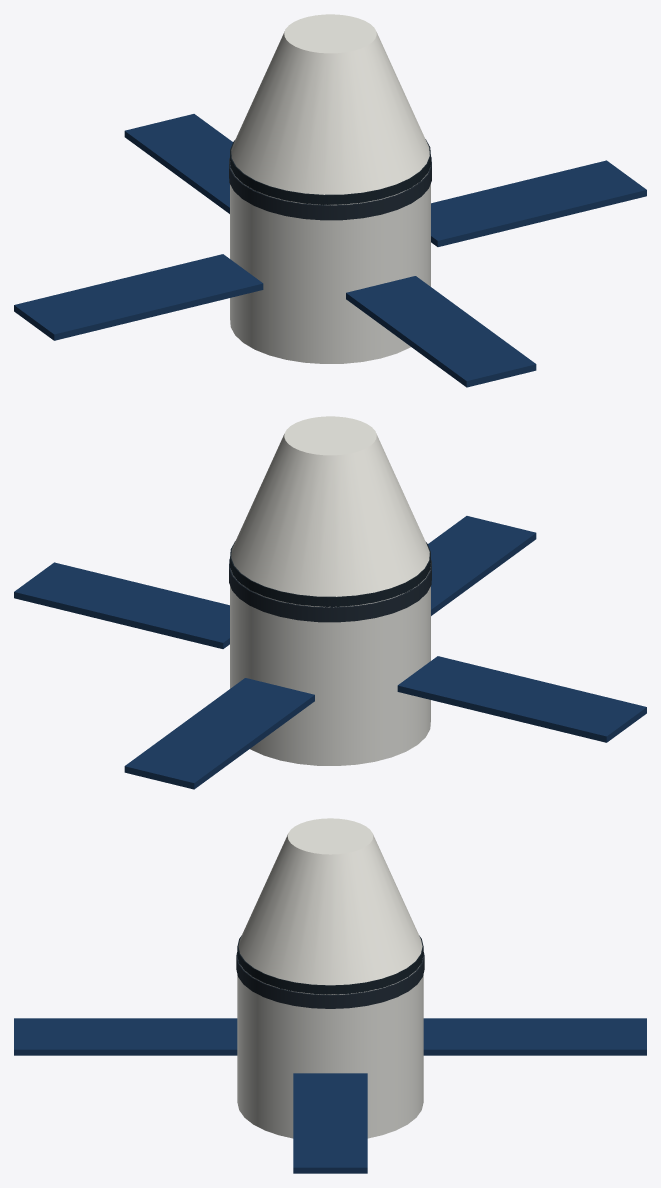
The model's file is orion.glb.
3 views of the same model, one above another, from view 1: azimuth 30°, elevation 25°; view 2: azimuth 150°, elevation 25°; view 3: azimuth 270°, elevation 25° (orthographic). The views are drawn at different scales.
Parts seen in each view (by area): view 1: capsule, body-0, solar-2, solar-1, solar-0, solar-3, interstage-0, heatshield; view 2: capsule, body-0, solar-2, solar-3, solar-0, solar-1, interstage-0, heatshield; view 3: capsule, body-0, solar-1, solar-3, solar-0, interstage-0, heatshield.
Boxes of the visible parts, x1=… form: capsule: x1=231, y1=14, x2=429, y2=194; body-0: x1=230, y1=165, x2=430, y2=363; solar-2: x1=14, y1=254, x2=263, y2=340; solar-1: x1=346, y1=276, x2=536, y2=387; solar-0: x1=431, y1=160, x2=646, y2=246; solar-3: x1=124, y1=114, x2=232, y2=213; interstage-0: x1=229, y1=157, x2=431, y2=220; heatshield: x1=230, y1=139, x2=430, y2=205; capsule: x1=231, y1=416, x2=429, y2=596; body-0: x1=230, y1=567, x2=430, y2=765; solar-2: x1=397, y1=656, x2=646, y2=742; solar-3: x1=124, y1=678, x2=314, y2=789; solar-0: x1=14, y1=562, x2=229, y2=648; solar-1: x1=428, y1=516, x2=536, y2=615; interstage-0: x1=229, y1=559, x2=431, y2=622; heatshield: x1=230, y1=541, x2=430, y2=607; capsule: x1=238, y1=818, x2=422, y2=985; body-0: x1=237, y1=958, x2=423, y2=1138; solar-1: x1=14, y1=1018, x2=237, y2=1055; solar-3: x1=423, y1=1018, x2=646, y2=1055; solar-0: x1=293, y1=1073, x2=367, y2=1173; interstage-0: x1=236, y1=952, x2=424, y2=1008; heatshield: x1=237, y1=935, x2=423, y2=994.
Size of the model in its own units: 17 by 8.19 by 17.
